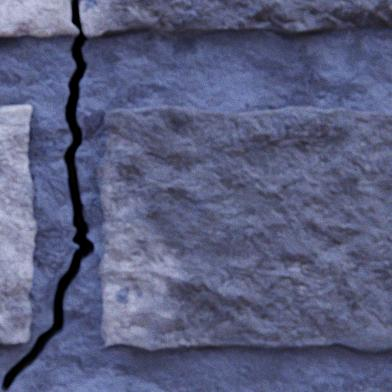brick: (97, 106, 391, 352), (0, 106, 36, 343)
broken_brick: (80, 0, 391, 38), (0, 0, 78, 37)
crack: (0, 0, 95, 391)
